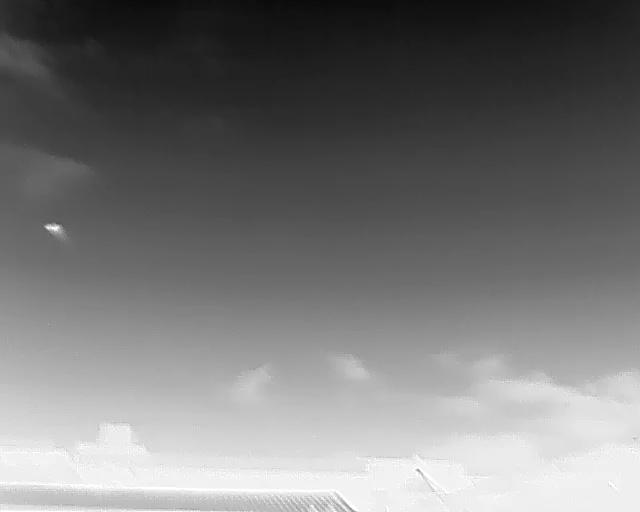fpv-drone: (44, 223, 66, 240)
